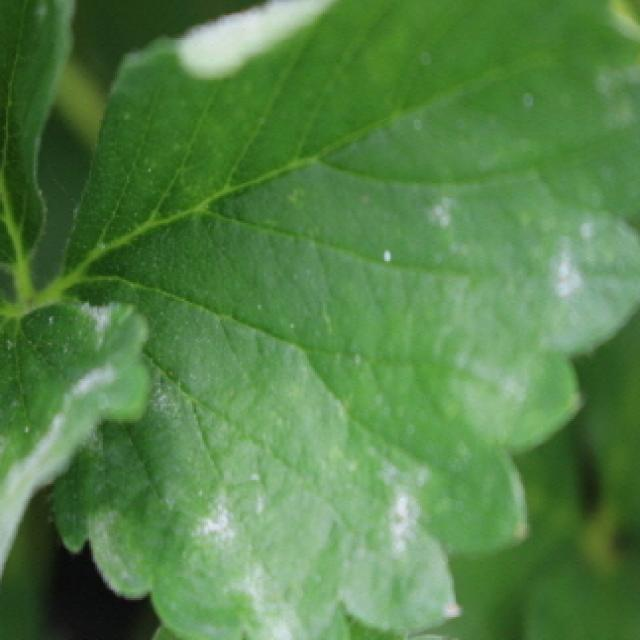Powdery Mildew Leaf: (50, 0, 640, 640), (0, 286, 155, 587)
